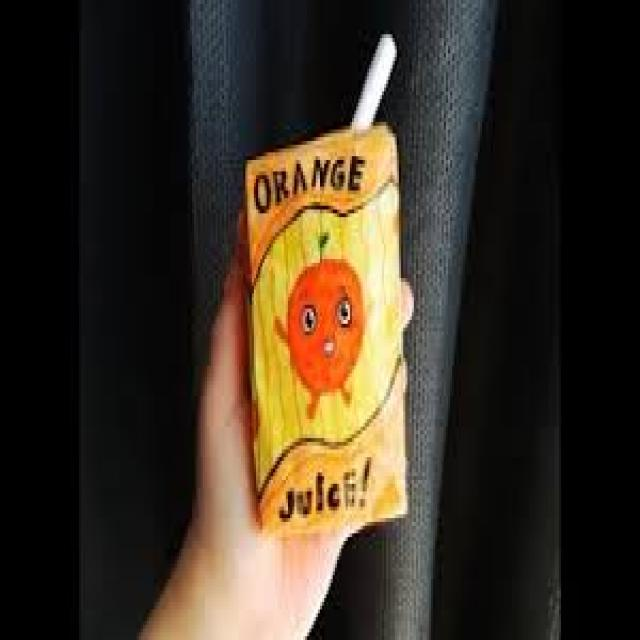non_white_jug: (238, 141, 417, 541)
